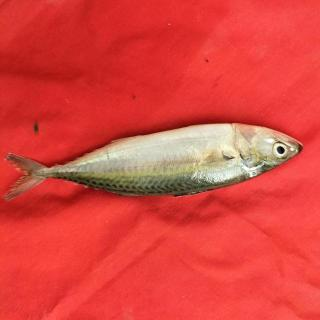Ikan: (7, 108, 315, 214)
